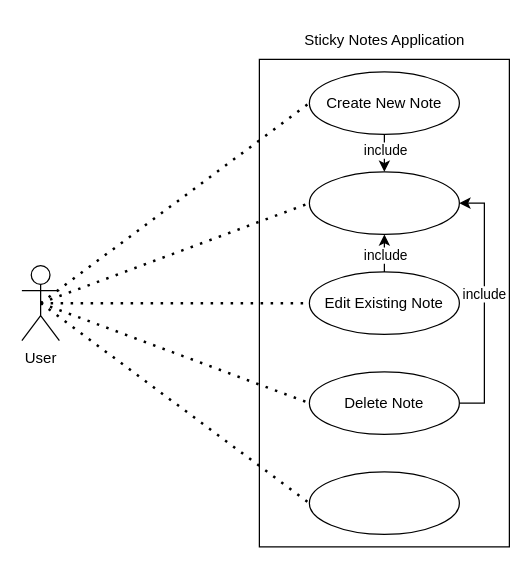
Some shapes in this 531 by 569 pixel diagram are drawn without their labels. The centre of each missing label's shape, as x and y in pixels:
"View All Notes" belongs at (383,202).
"View Note Details" belongs at (383,502).
